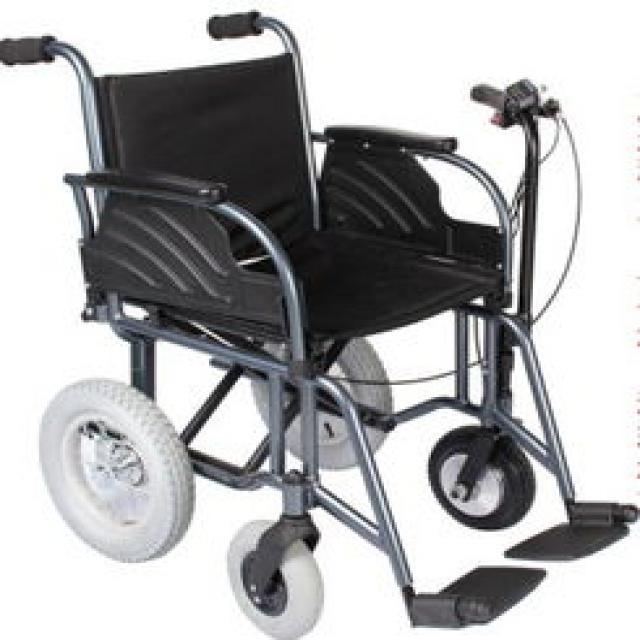wheelchair: (2, 12, 638, 638)
